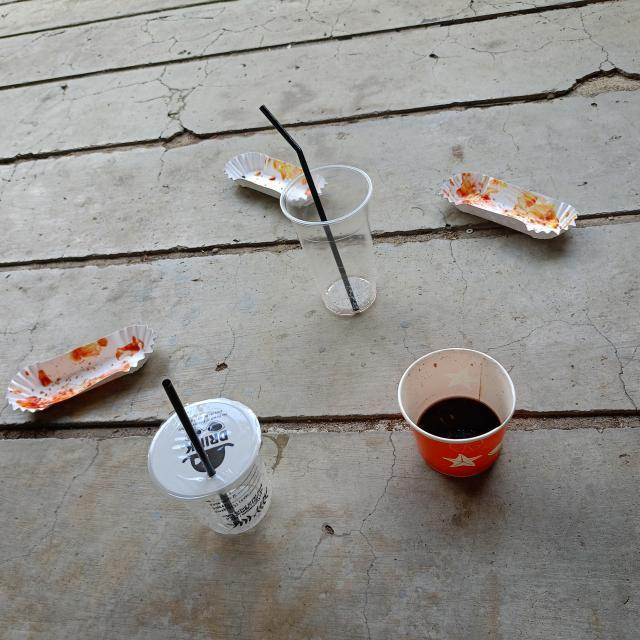recyclable waste: (138, 391, 282, 540), (390, 340, 524, 488), (272, 156, 385, 322), (0, 314, 166, 420), (433, 164, 585, 248), (216, 144, 330, 212)
